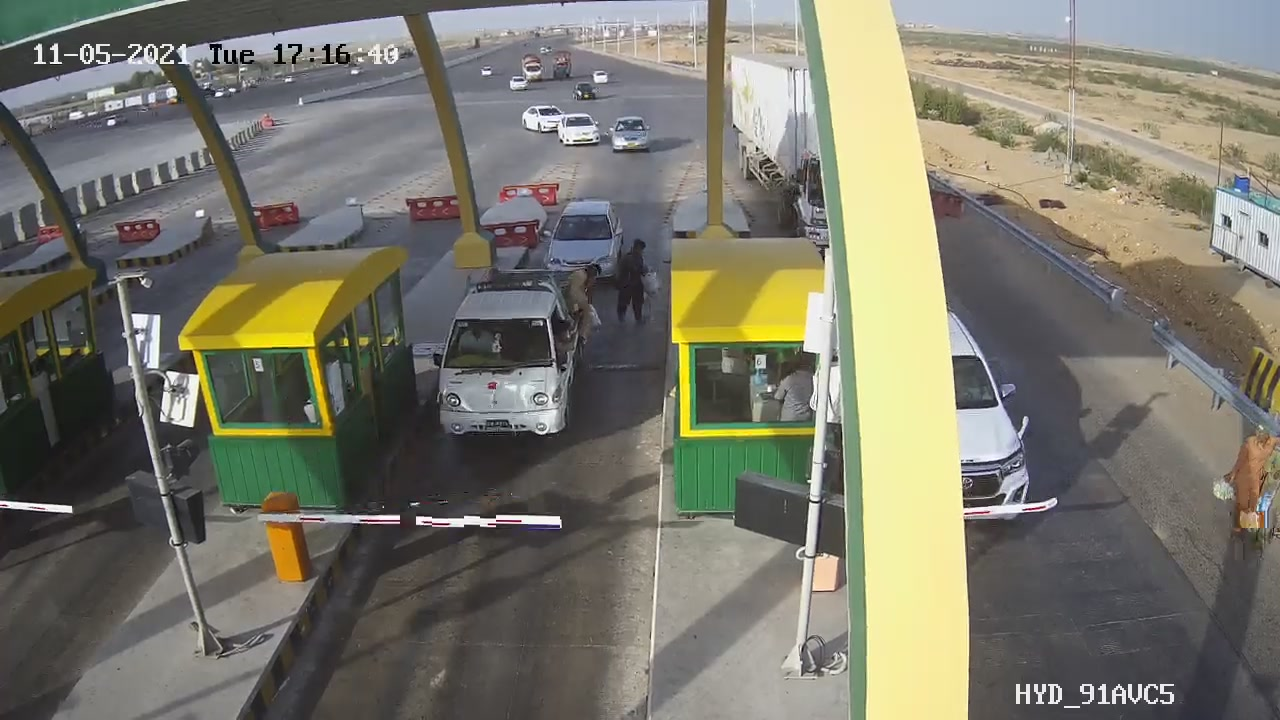F2: (413, 257, 607, 455)
